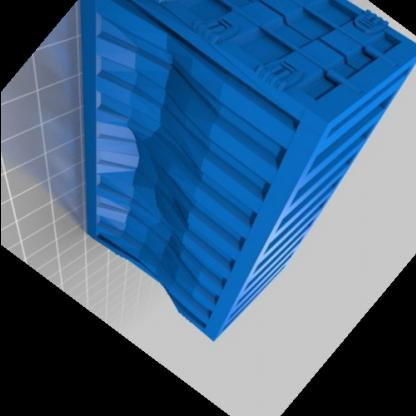Damage: (124, 66, 214, 286)
